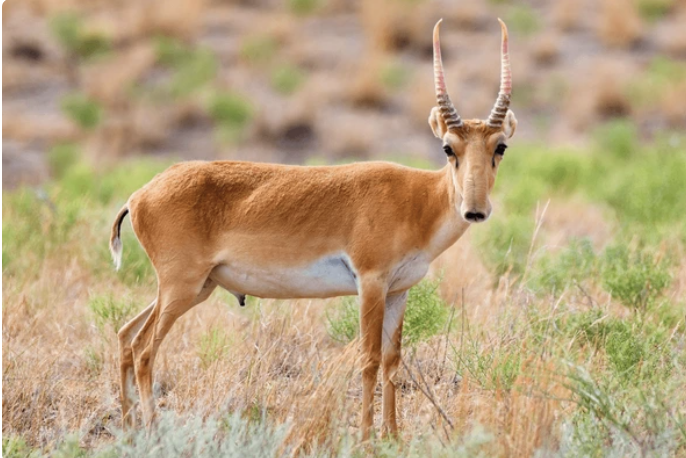saiga: (91, 14, 516, 440)
